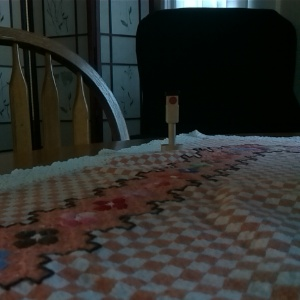traffic light red: (158, 89, 186, 155)
